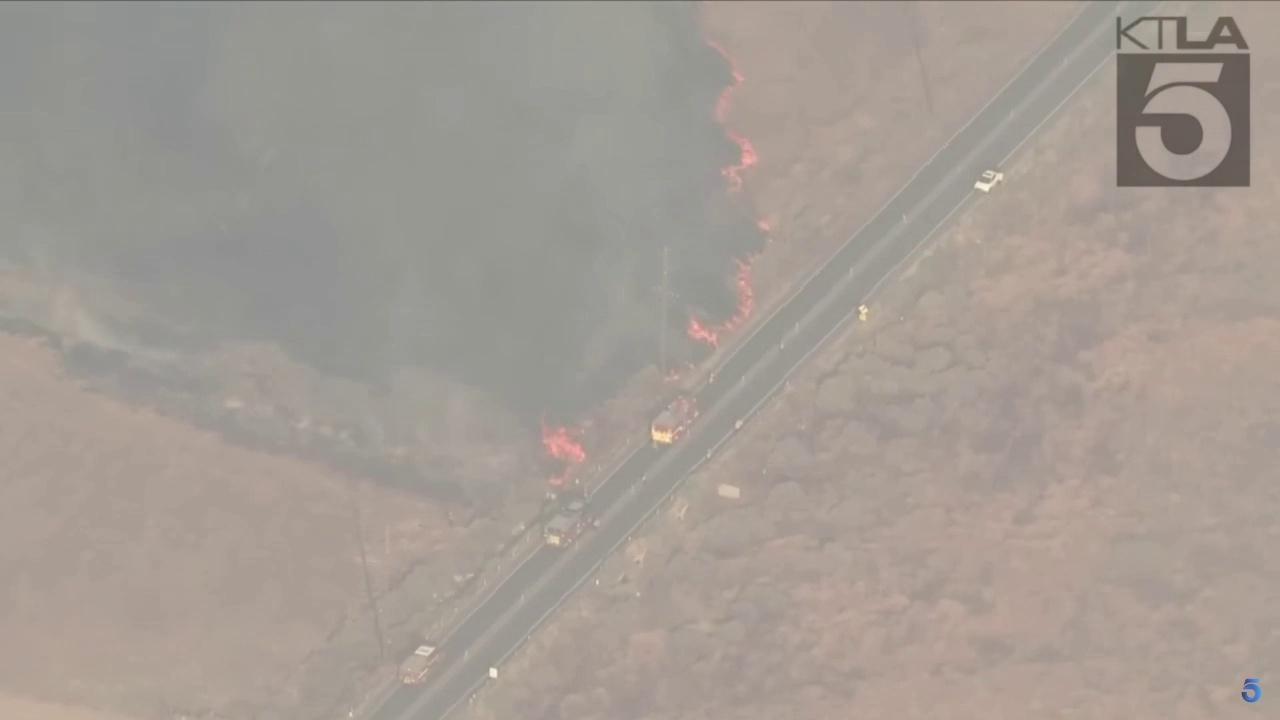fire: (704, 39, 760, 196), (685, 250, 756, 353), (536, 409, 587, 487), (758, 217, 772, 230), (812, 9, 812, 9)
smoke: (0, 0, 763, 431)
